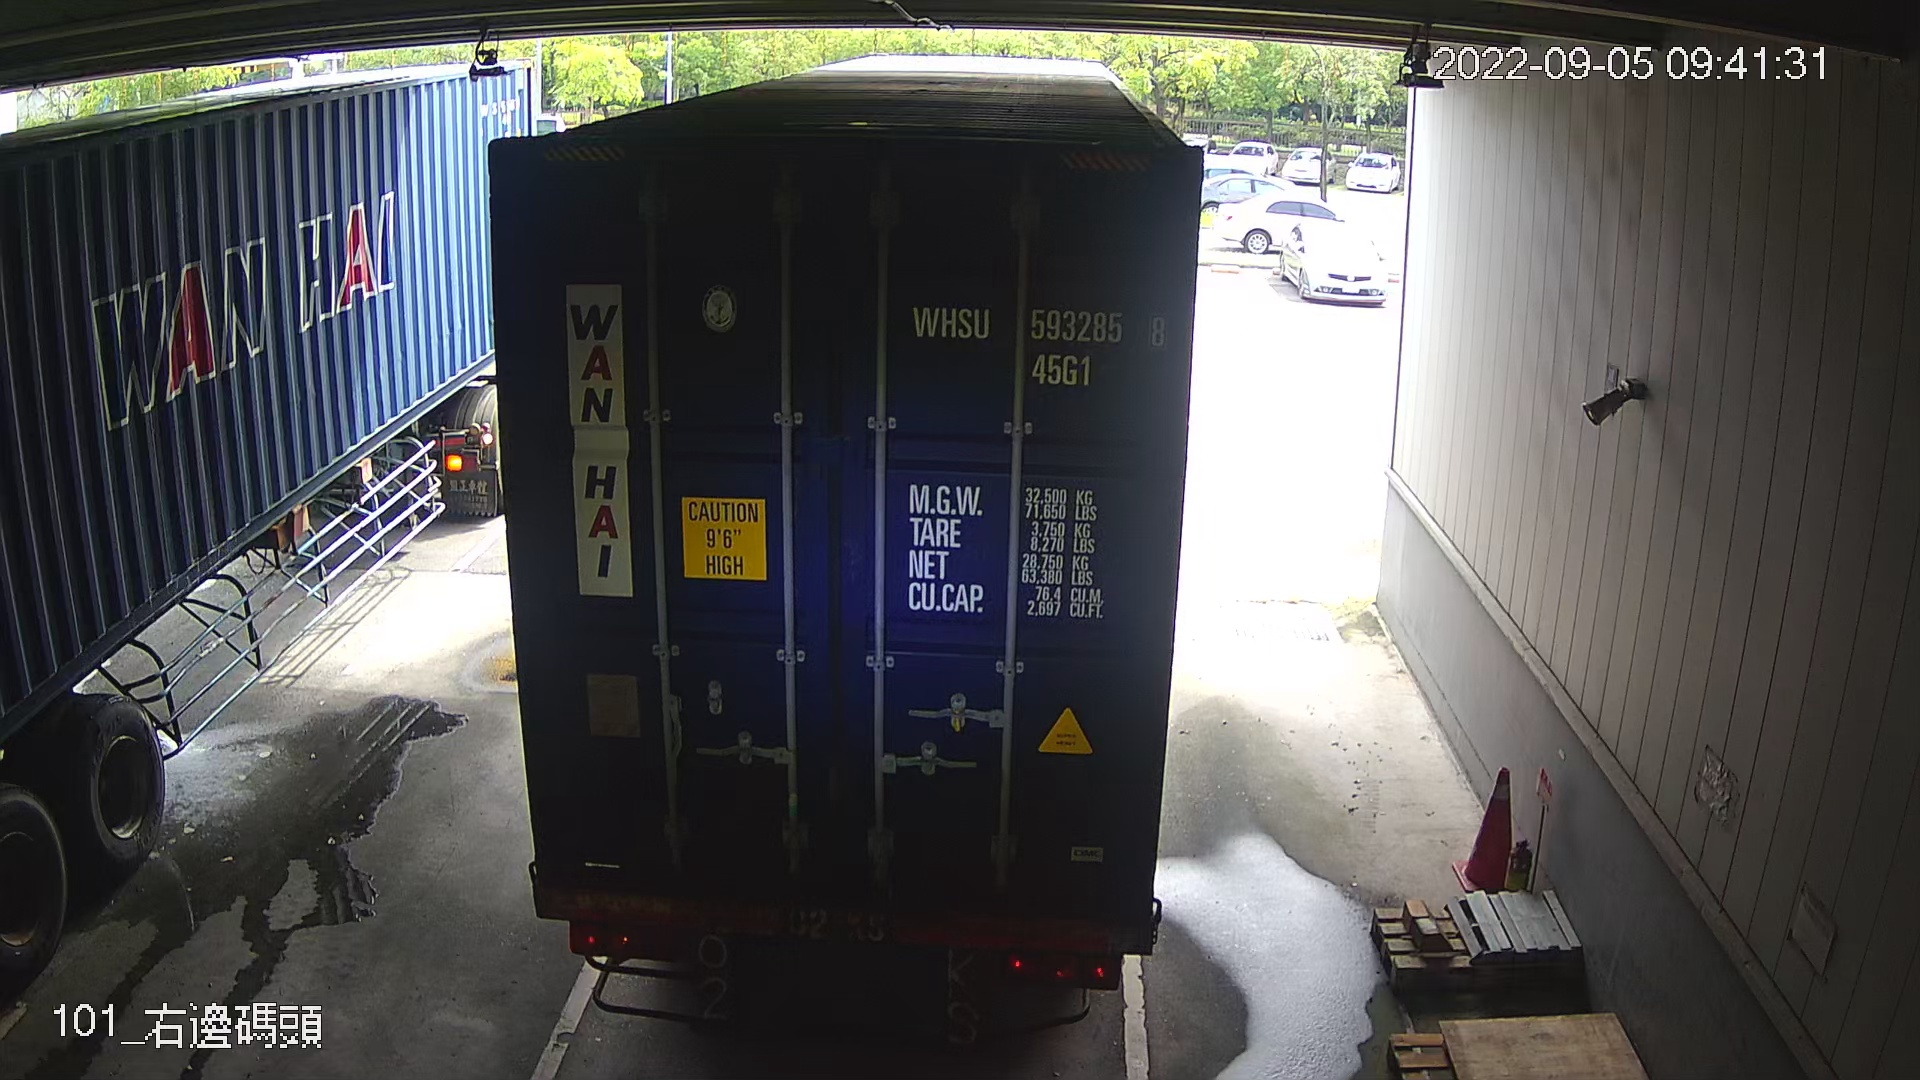container: (899, 289, 1178, 397)
